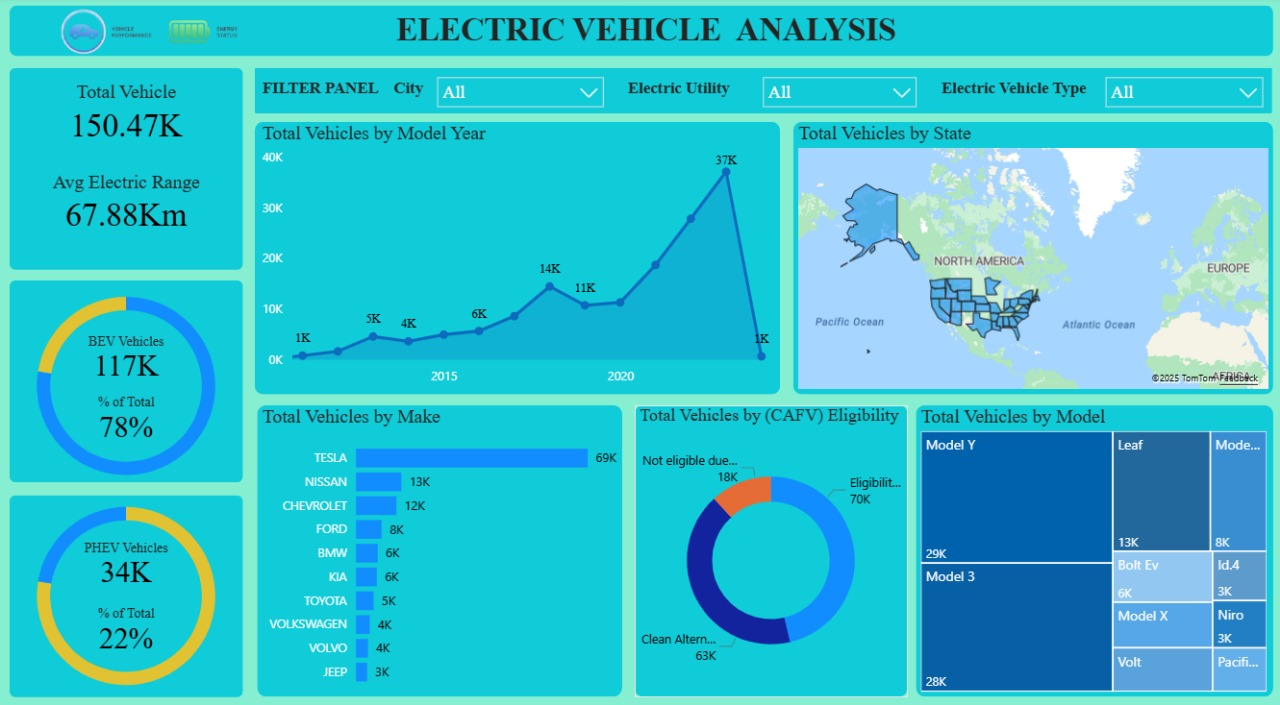

Layout of this report page (visuals, bound fields, positions):
{"tool":"powerbi","page":{"name":"Dashboard","canvas":[1280,720],"ordinal":0},"visuals":[{"type":"shape","box":[14.3,8.3,1251.2,50],"z":0},{"type":"textbox","box":[188.1,8.3,904.8,51.2],"z":1000},{"type":"shape","box":[14.3,70.2,231,200],"z":2000},{"type":"card","title":"Total Vehicle","fields":{"Values":["Electric_Vehicle_Population_Data.Total Vehicles"]},"box":[28.6,83.3,202.4,64.3],"z":3000},{"type":"shape","box":[14.3,494.1,231,200],"z":4000},{"type":"shape","box":[14.3,281,231,200],"z":5000},{"type":"card","title":"Avg Electric Range","fields":{"Values":["Electric_Vehicle_Population_Data.Avg Range"]},"box":[28.6,172.6,202.4,64.3],"z":6000},{"type":"donutChart","fields":{"Category":["Electric_Vehicle_Population_Data.Electric Vehicle Type"],"Y":["Electric_Vehicle_Population_Data.Total Vehicles"]},"box":[0,270.2,259.5,231],"z":7000},{"type":"card","title":"BEV Vehicles","fields":{"Values":["Electric_Vehicle_Population_Data.BEV Vehicles"]},"box":[61.9,333.3,135.7,47.6],"z":8000},{"type":"card","title":"% of Total","fields":{"Values":["Electric_Vehicle_Population_Data.% of BEV"]},"box":[61.9,394,135.7,47.6],"z":9000},{"type":"donutChart","fields":{"Category":["Electric_Vehicle_Population_Data.Electric Vehicle Type"],"Y":["Electric_Vehicle_Population_Data.Total Vehicles"]},"box":[0,478.6,259.5,231],"z":10000},{"type":"card","title":"PHEV Vehicles","fields":{"Values":["Electric_Vehicle_Population_Data.PHEV Vehicles"]},"box":[61.9,538.1,135.7,47.6],"z":11000},{"type":"card","title":"% of Total","fields":{"Values":["Electric_Vehicle_Population_Data.% of PHEV"]},"box":[61.9,603.6,135.7,47.6],"z":12000},{"type":"shape","box":[257.5,70,1007.5,45],"z":13000},{"type":"shape","box":[257.5,123.8,520,270],"z":14000},{"type":"areaChart","fields":{"Category":["Electric_Vehicle_Population_Data.Model Year"],"Y":["Electric_Vehicle_Population_Data.Total Vehicles"]},"box":[260,123.8,517.5,270],"z":15000},{"type":"shape","box":[790,123.8,475,270],"z":16000},{"type":"azureMap","fields":{"Category":["Electric_Vehicle_Population_Data.State"],"Y":["Electric_Vehicle_Population_Data.Total Vehicles"]},"box":[790,123.8,475,270],"z":17000},{"type":"shape","box":[260,405,361.2,288.8],"z":18000},{"type":"barChart","fields":{"Category":["Electric_Vehicle_Population_Data.Make"],"Y":["Electric_Vehicle_Population_Data.Total Vehicles"]},"box":[260,405,361.2,288.8],"z":19000},{"type":"shape","box":[633.8,405,270,288.8],"z":20000},{"type":"donutChart","title":"Total Vehicles by  (CAFV) Eligibility","fields":{"Category":["Electric_Vehicle_Population_Data.Clean Alternative Fuel Vehicle (CAFV) Eligibility"],"Y":["Electric_Vehicle_Population_Data.Total Vehicles"]},"box":[633.8,405,270,288.8],"z":21000},{"type":"shape","box":[912.5,405,353.8,288.8],"z":22000},{"type":"treemap","fields":{"Group":["Electric_Vehicle_Population_Data.Model"],"Values":["Electric_Vehicle_Population_Data.Total Vehicles"]},"box":[912.5,405,352.5,288.8],"z":23000},{"type":"textbox","box":[260,76.2,141.2,32.5],"z":24000},{"type":"slicer","fields":{"Values":["Electric_Vehicle_Population_Data.City"]},"box":[427.5,68.8,185,47.5],"z":25000},{"type":"textbox","box":[377.5,76.2,63.8,32.5],"z":26000},{"type":"slicer","fields":{"Values":["Electric_Vehicle_Population_Data.Electric Utility"]},"box":[750,68.8,172.5,46.2],"z":27000},{"type":"textbox","box":[612.5,76.2,130,32.5],"z":28000},{"type":"slicer","fields":{"Values":["Electric_Vehicle_Population_Data.Electric Vehicle Type"]},"box":[1088.8,68.8,176.2,46.2],"z":29000},{"type":"textbox","box":[925,76.2,167.5,32.5],"z":30000},{"type":"image","box":[14.3,8.3,282.1,50],"z":31000}]}

Visuals, with their boxes in screenshot pixels (x1, y1, x2, y2), scaled from the page's 1280x720 canvas onto the 1280x705 screenshot:
shape: (14,8,1266,57)
textbox: (188,8,1093,58)
shape: (14,69,245,265)
"Total Vehicle" card: (29,82,231,145)
shape: (14,484,245,680)
shape: (14,275,245,471)
"Avg Electric Range" card: (29,169,231,232)
donutChart - Electric_Vehicle_Population_Data.Electric Vehicle Type x Electric_Vehicle_Population_Data.Total Vehicles: (0,265,260,491)
"BEV Vehicles" card: (62,326,198,373)
"% of Total" card: (62,386,198,432)
donutChart - Electric_Vehicle_Population_Data.Electric Vehicle Type x Electric_Vehicle_Population_Data.Total Vehicles: (0,469,260,695)
"PHEV Vehicles" card: (62,527,198,573)
"% of Total" card: (62,591,198,638)
shape: (258,69,1265,113)
shape: (258,121,778,386)
areaChart - Electric_Vehicle_Population_Data.Model Year x Electric_Vehicle_Population_Data.Total Vehicles: (260,121,778,386)
shape: (790,121,1265,386)
azureMap - Electric_Vehicle_Population_Data.State x Electric_Vehicle_Population_Data.Total Vehicles: (790,121,1265,386)
shape: (260,397,621,679)
barChart - Electric_Vehicle_Population_Data.Make x Electric_Vehicle_Population_Data.Total Vehicles: (260,397,621,679)
shape: (634,397,904,679)
"Total Vehicles by  (CAFV) Eligibility" donutChart: (634,397,904,679)
shape: (912,397,1266,679)
treemap - Electric_Vehicle_Population_Data.Model x Electric_Vehicle_Population_Data.Total Vehicles: (912,397,1265,679)
textbox: (260,75,401,106)
slicer - Electric_Vehicle_Population_Data.City: (428,67,612,114)
textbox: (378,75,441,106)
slicer - Electric_Vehicle_Population_Data.Electric Utility: (750,67,922,113)
textbox: (612,75,742,106)
slicer - Electric_Vehicle_Population_Data.Electric Vehicle Type: (1089,67,1265,113)
textbox: (925,75,1092,106)
image: (14,8,296,57)
